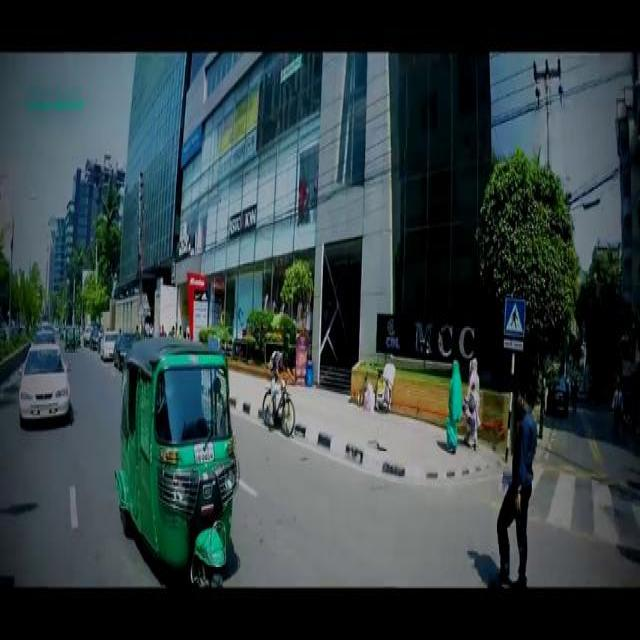bicycle: (260, 380, 296, 435)
car: (18, 341, 68, 420), (113, 332, 139, 366), (98, 326, 114, 357)
three wheelers -CNG-: (115, 335, 238, 583)
